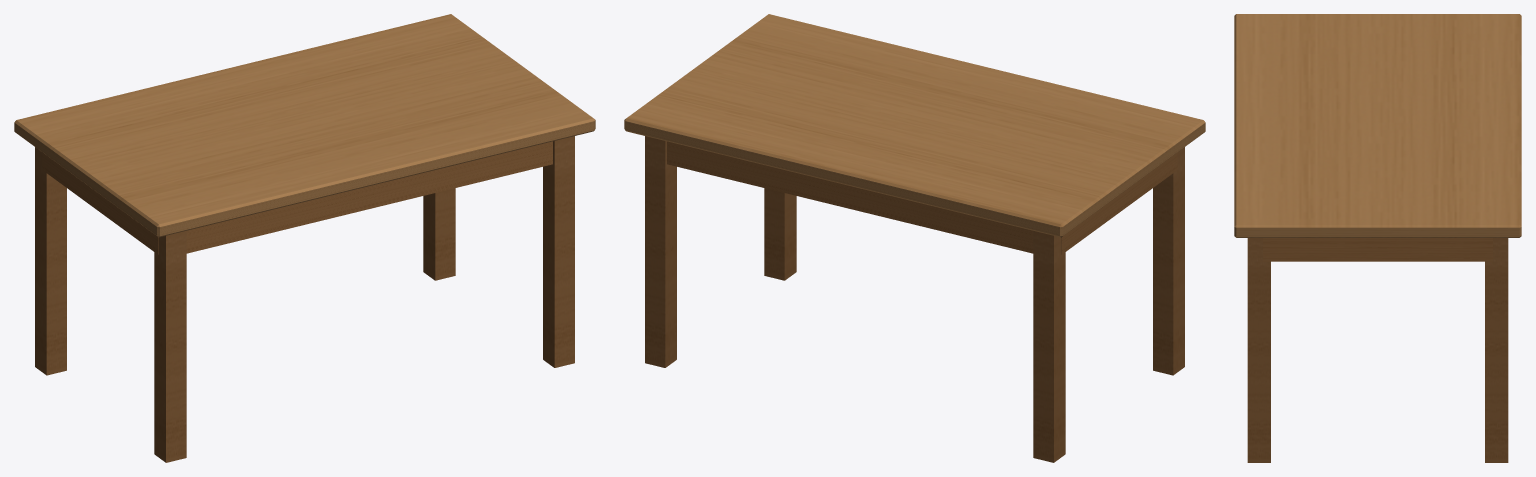
The model's file is dining_table.glb.
3 renders of one model, left to right at view 1: azimuth 30°, elevation 25°; view 2: azimuth 150°, elevation 25°; view 3: azimuth 270°, elevation 25°, orthographic.
Visible parts, largest first — view 1: home_dining_table; view 2: home_dining_table; view 3: home_dining_table.
Part boxes in pixels (x1,y1,x2,y2): home_dining_table: (14, 14, 595, 462); home_dining_table: (624, 14, 1205, 462); home_dining_table: (1234, 14, 1521, 462).
Size of the model in its own units: 1.4 by 0.75 by 0.8.
Materials: 1 (1 with a texture image).
